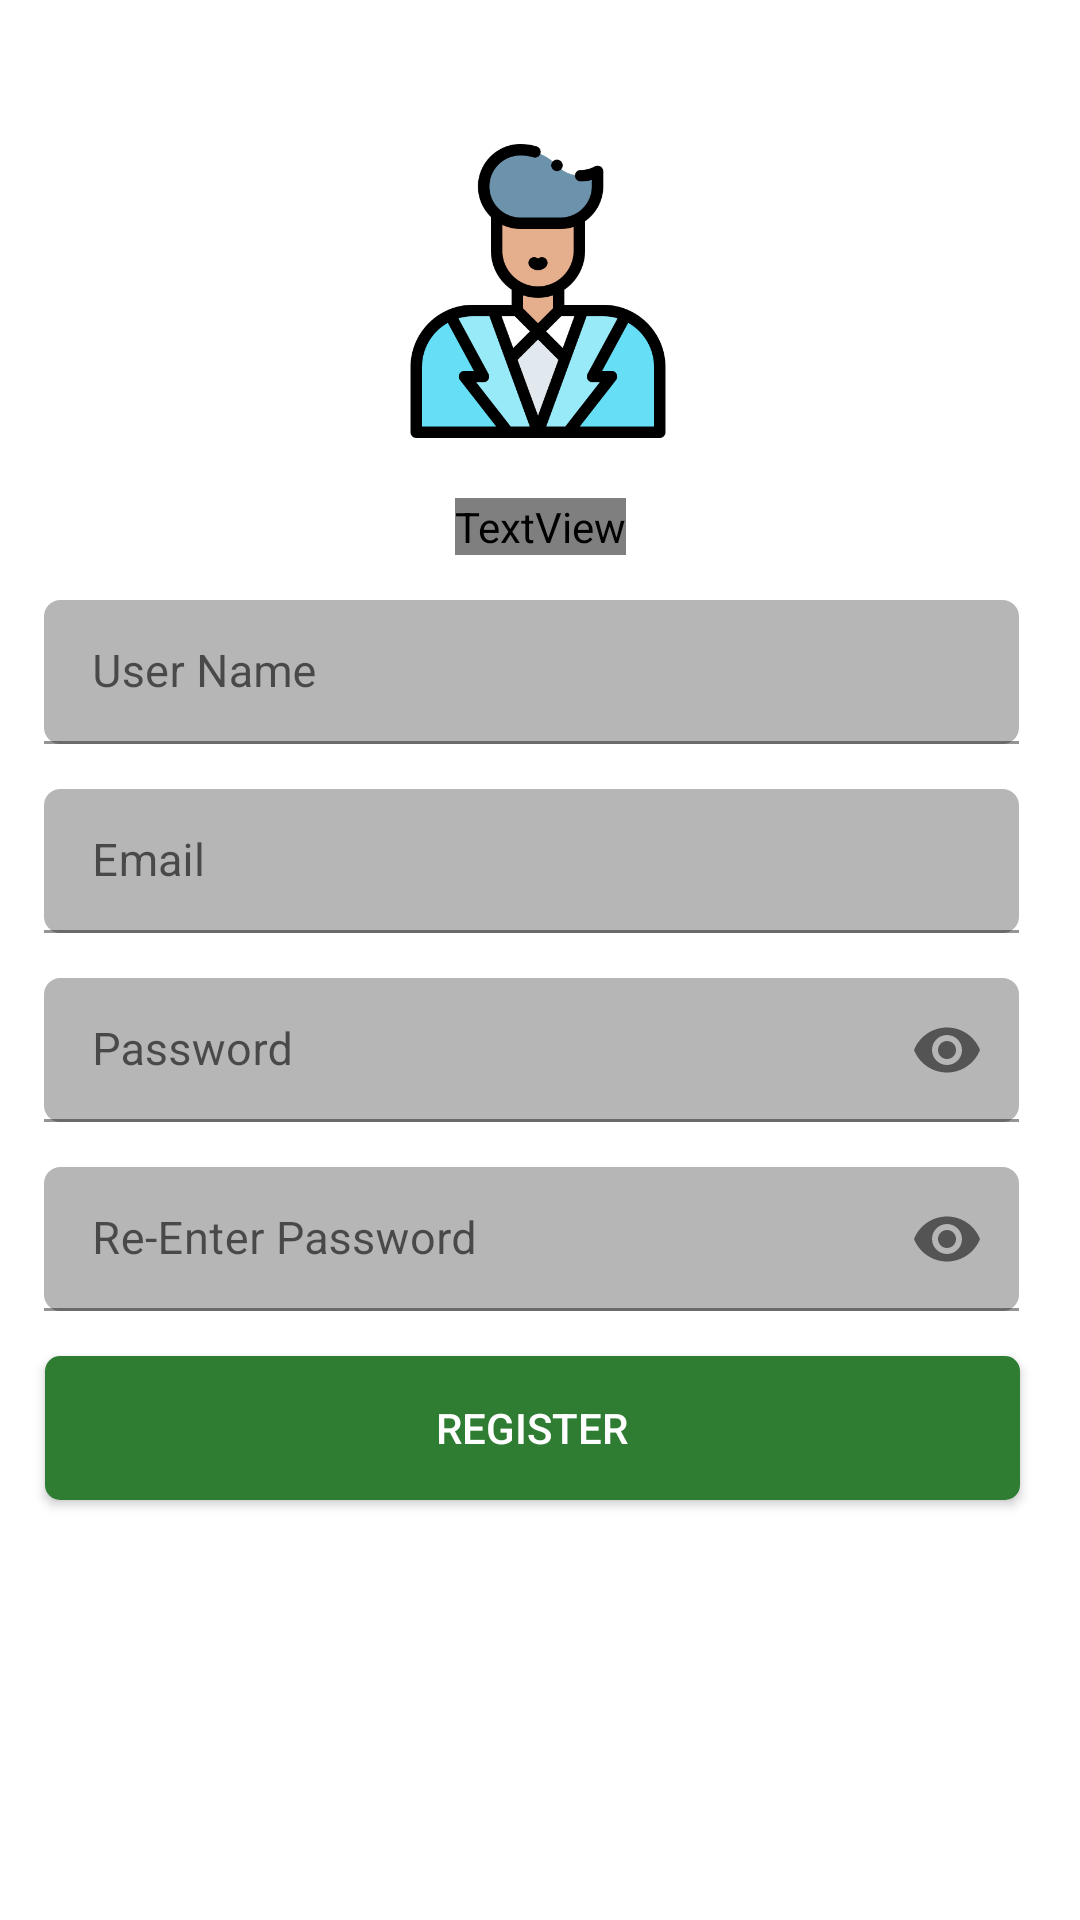

Where to tap for icons on this 1080px×1920px app screen, as (x=x, y=y):
user: (x=538, y=291)
